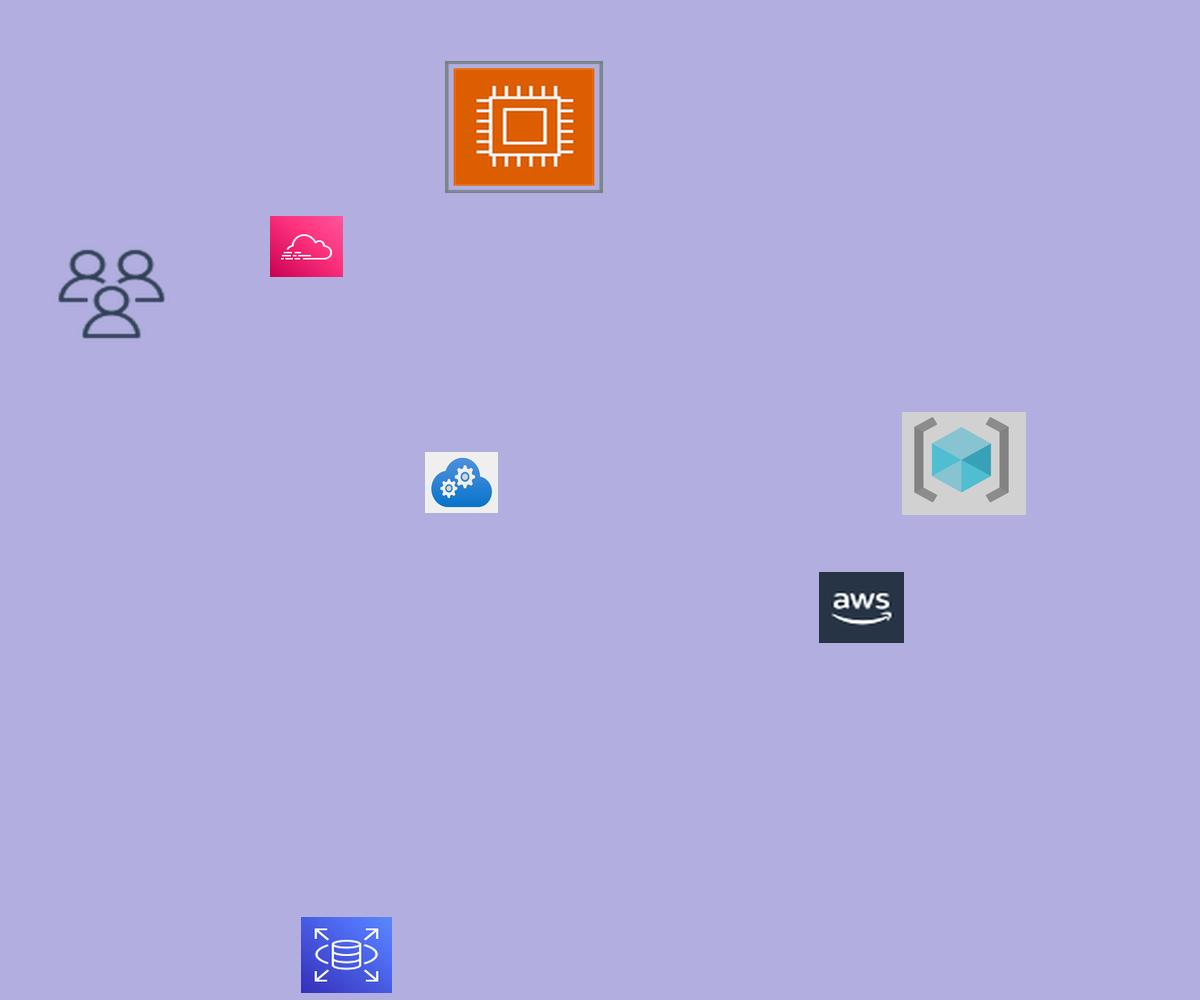AWS-Category_Compute: (445, 61, 603, 193)
AWS-Cloud-logo: (819, 572, 904, 643)
AWS-CloudTrail: (270, 216, 343, 277)
AWS-RDS: (301, 917, 392, 993)
AWS-Res_Users: (54, 246, 169, 342)
Azure_cloud_services: (425, 452, 498, 513)
Azure_resource_group: (902, 412, 1026, 515)
